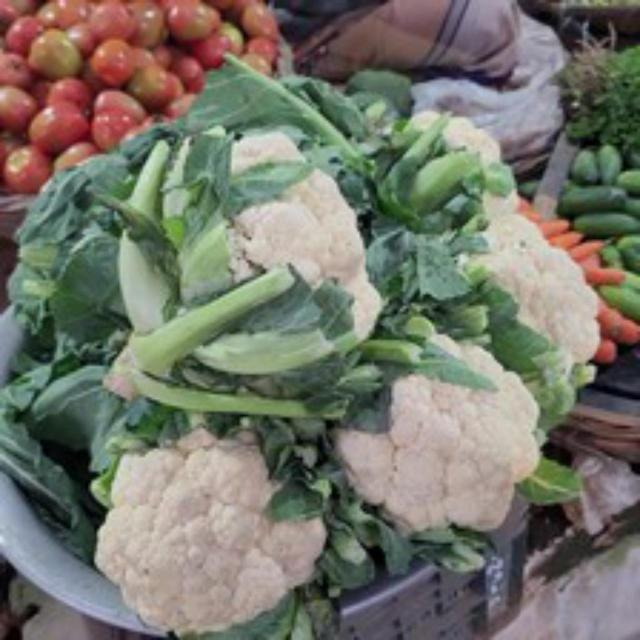cauliflower: (99, 428, 334, 624)
